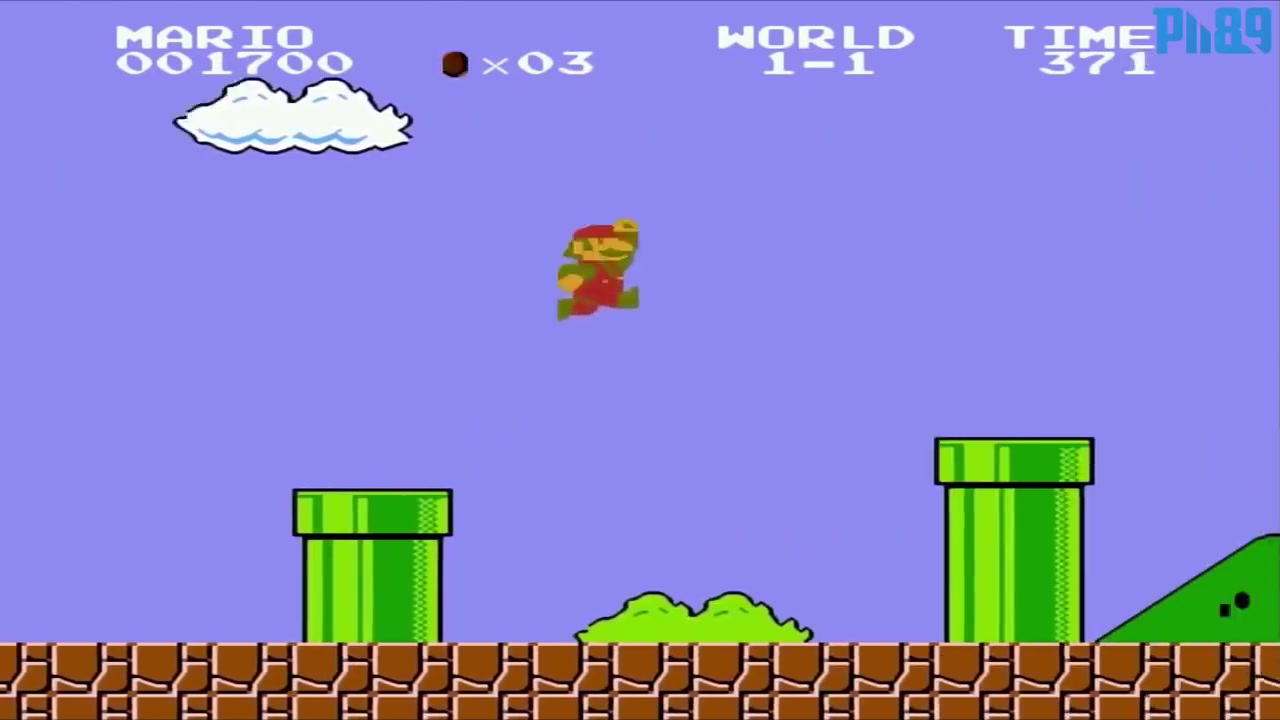mario: (550, 211, 644, 332)
